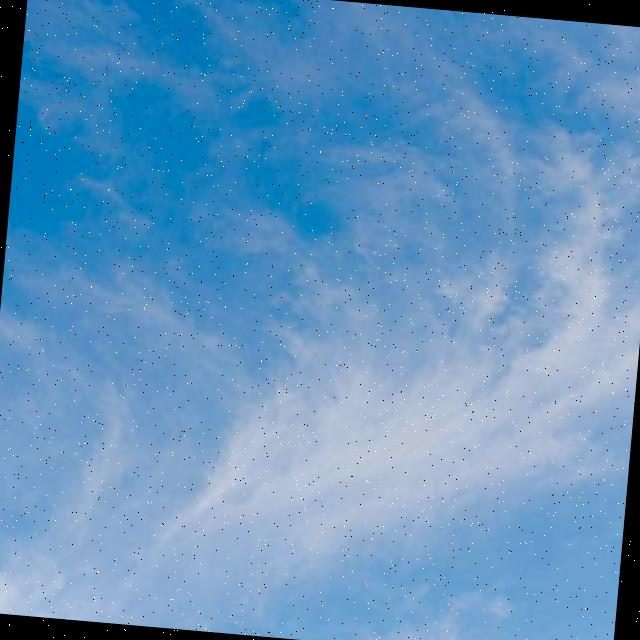Ci: (1, 15, 640, 640)
